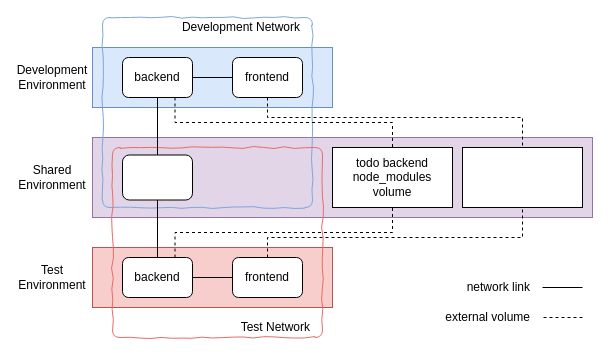
Some shapes in this 610 by 355 pixel diagram are drawn without their labels. Here are the shapes that lost their labels. From the top down, the centre of each, then its label:
the point at 157,177: postgres
the point at 522,177: todo frontend node_modules volume
